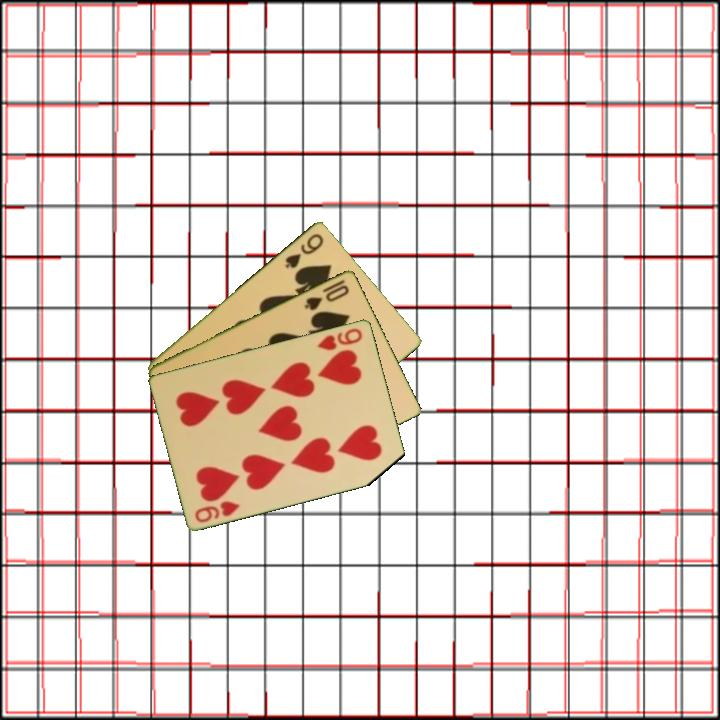10s: (301, 281, 352, 313)
9h: (313, 324, 365, 353), (191, 497, 243, 525)
9s: (281, 229, 327, 271)
